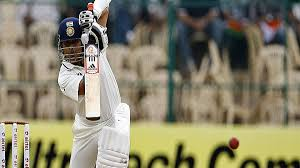bottom left: (82, 111, 91, 123)
bottom right: (96, 111, 105, 124)
top left: (82, 41, 90, 48)
top right: (95, 41, 103, 47)
